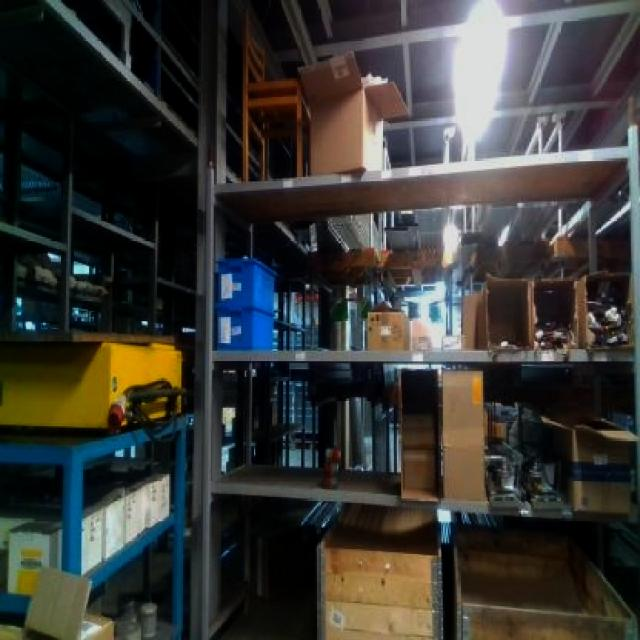pallets: (452, 526, 635, 637), (317, 503, 435, 637), (297, 49, 405, 171), (540, 414, 634, 512), (214, 257, 272, 346)
